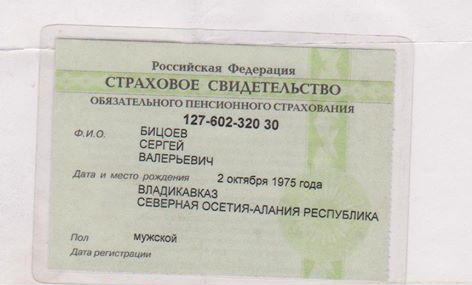text: (136, 183, 380, 224), (182, 110, 282, 133), (217, 171, 324, 190), (137, 151, 216, 167), (139, 123, 188, 139), (132, 230, 179, 245), (137, 137, 185, 151)
